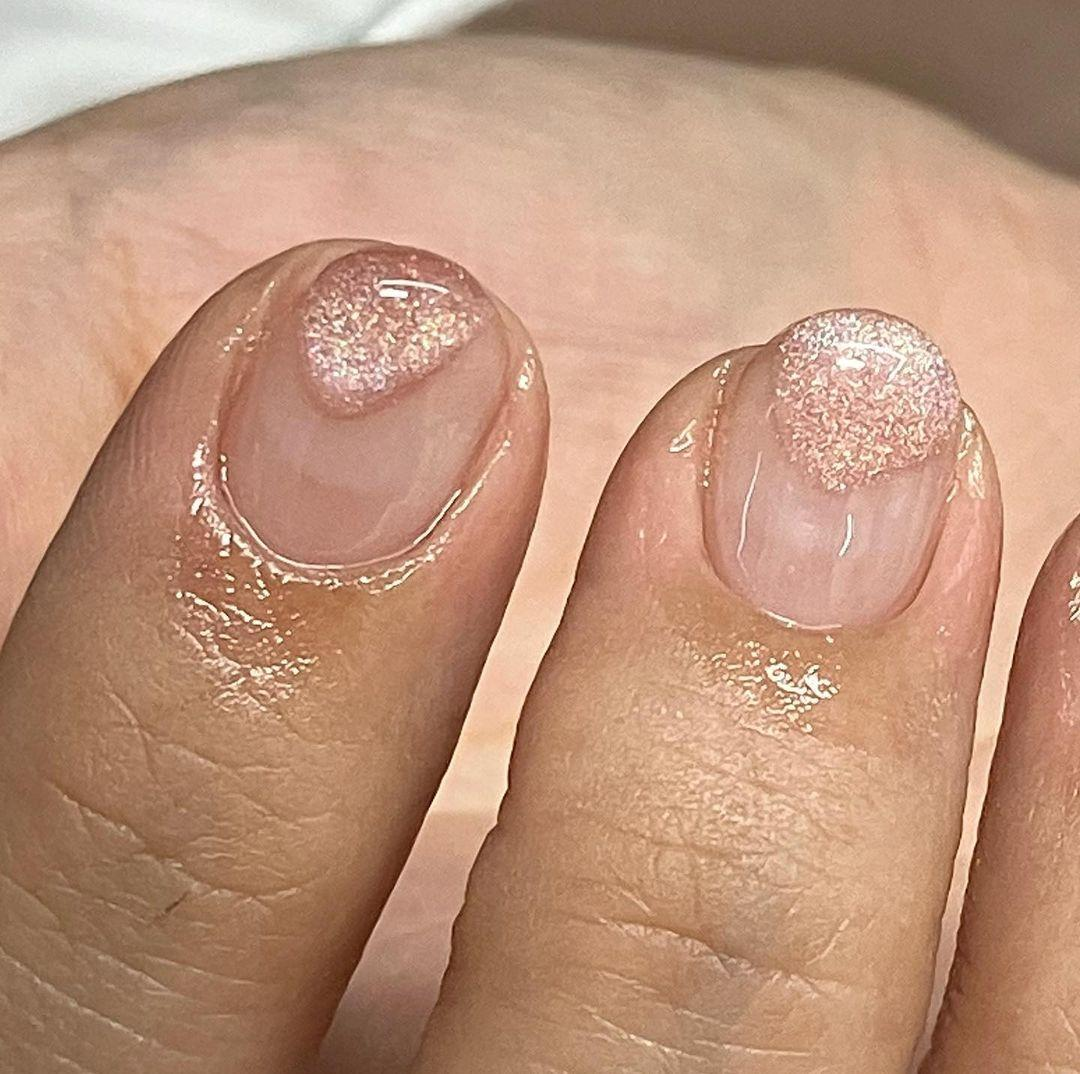nail: (697, 305, 963, 631)
